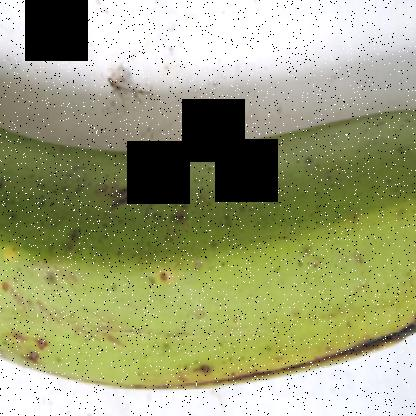unripe: (0, 92, 416, 415)
